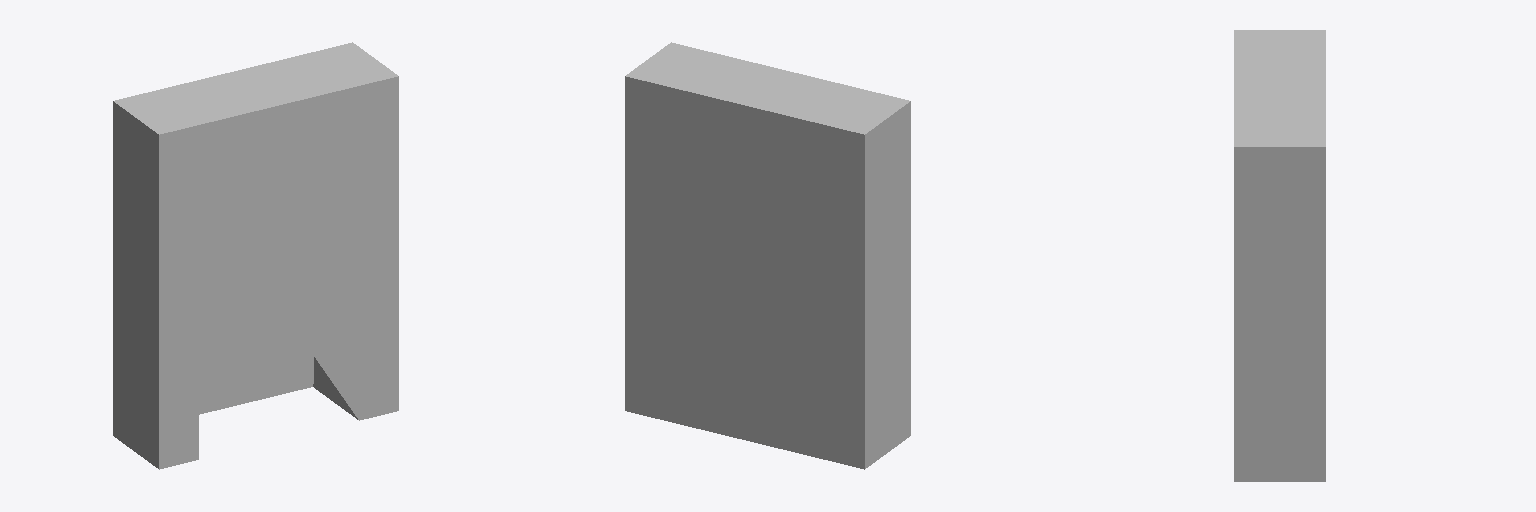
Rendered from GridFoundation_arch_straight.obj.
3 views of the same model, side by side, from view 1: azimuth 30°, elevation 25°; view 2: azimuth 150°, elevation 25°; view 3: azimuth 270°, elevation 25° (orthographic).
Visible parts, largest first — view 1: GridFoundation_arch_straight.001, GridFoundation_arch_straight_portcullis.001; view 2: GridFoundation_arch_straight.001; view 3: GridFoundation_arch_straight.001.
Part boxes in pixels (left/top/right/bottom): GridFoundation_arch_straight.001: left=113, top=42, right=398, bottom=469; GridFoundation_arch_straight_portcullis.001: left=200, top=208, right=313, bottom=408; GridFoundation_arch_straight.001: left=625, top=42, right=910, bottom=469; GridFoundation_arch_straight.001: left=1234, top=30, right=1325, bottom=481.
Size of the model in its own units: 9 by 11.99 by 3.